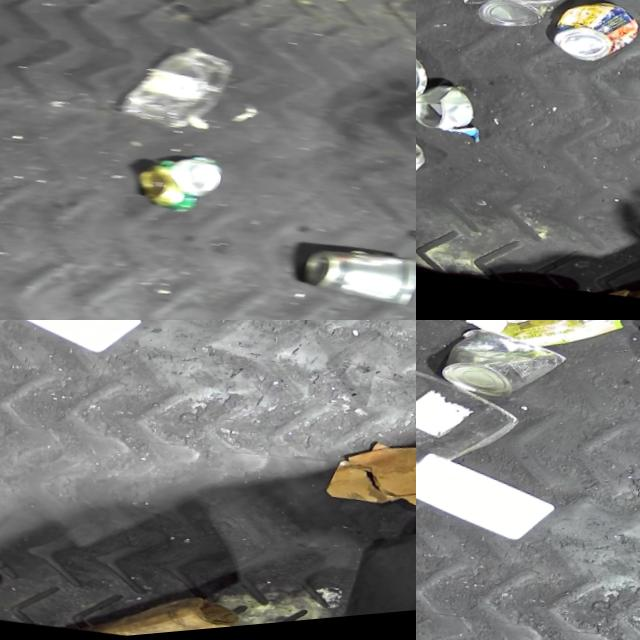can: (437, 320, 571, 416), (290, 233, 416, 320), (116, 146, 231, 237), (546, 0, 640, 76), (441, 0, 566, 42), (416, 75, 475, 138), (416, 29, 435, 121), (416, 116, 430, 188)
milk_jug: (416, 435, 561, 560), (0, 320, 149, 372)
